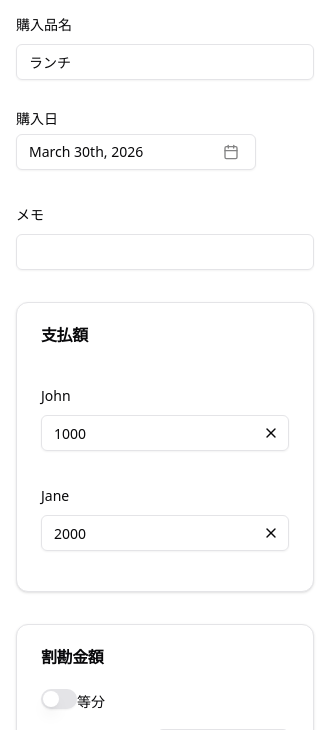
Test case: PurchaseEditForm › クリアボタン › ×ボタンをクリックすると金額が空にクリアされる
The width and height of the screenshot is (331, 730).
Check: the field labelled "John" holds "1000", box [41,415,289,451]
Note: ×ボタンをクリック
What coordinates should you click on to do the following:
click the 1st button named "クリア"
I would click on:
 (271, 433)
Its box is [257,419,285,447].
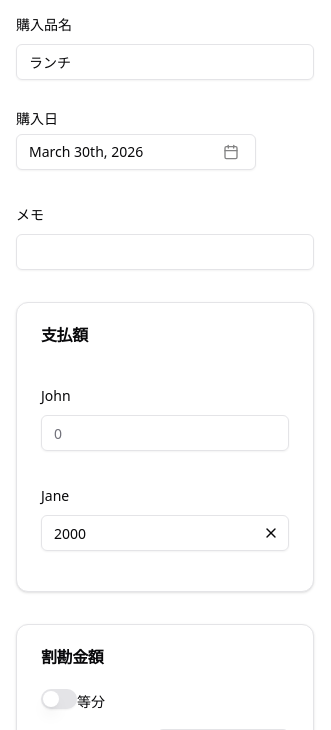
Check: the field labelled "John" is empty, box [41,415,289,451]
